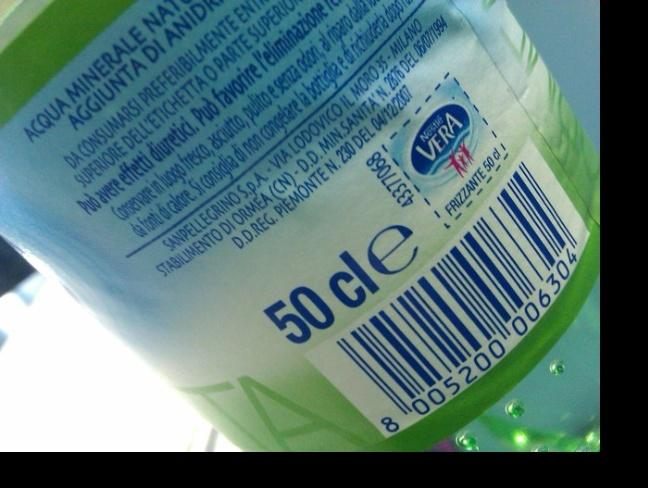Barcode: (335, 159, 586, 442)
